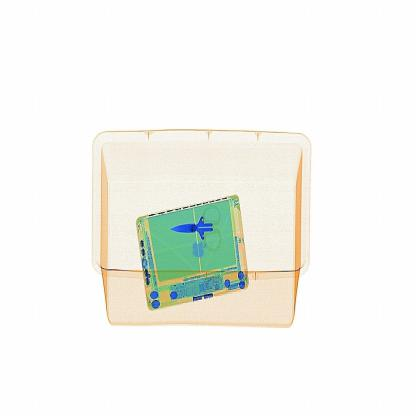gun: (167, 189, 231, 258)
